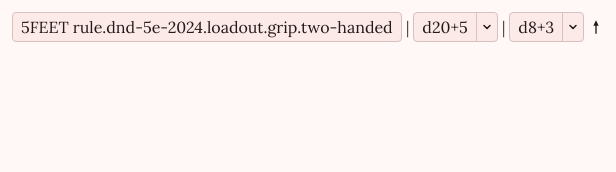
Test case: PanelDiceLine - versatile grip label follows the loadout › leaves the thrown bands free of any grip wording
Click the button "5FEET rule.dnd-5e-2024.loadout.grip.two-handed" at (207, 27), box [12,12,402,42]
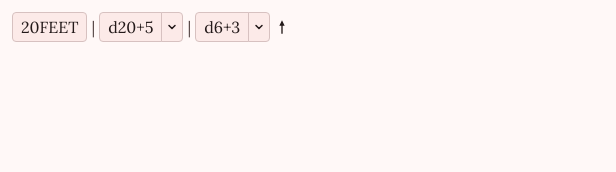
Expected: the button "20FEET" is shown, [12,12,88,42]
Expected: the text "rule.dnd-5e-2024.loadout.grip.two-handed" is gone
